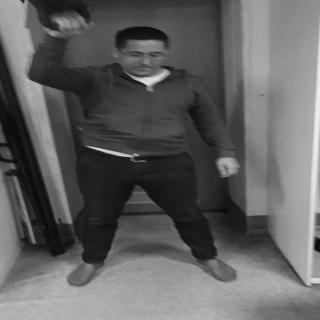kettlebell: (19, 1, 96, 34)
